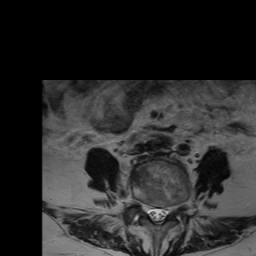CCS_normal: (154, 197, 161, 231)
LFS_normal: (169, 197, 176, 223)
LLS_normal: (161, 198, 169, 225)
RFS_normal: (138, 192, 146, 219)
RLS_normal: (146, 197, 154, 226)
